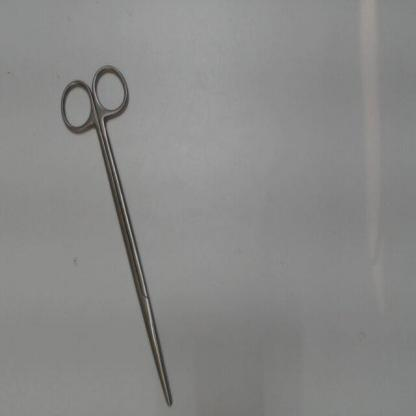9 Metzenbaum Scissors: (53, 56, 178, 412)
